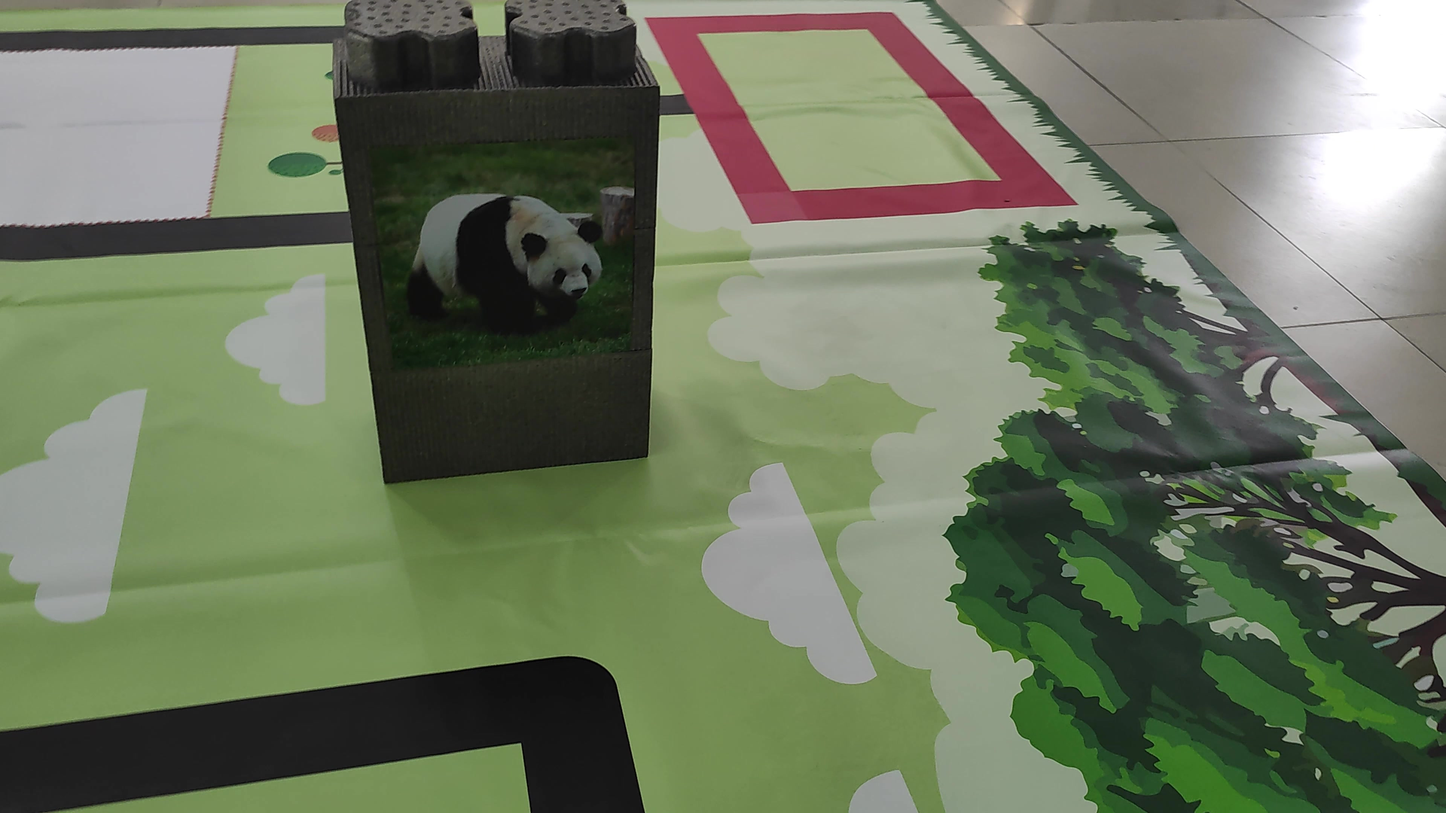panda: (390, 161, 622, 345)
